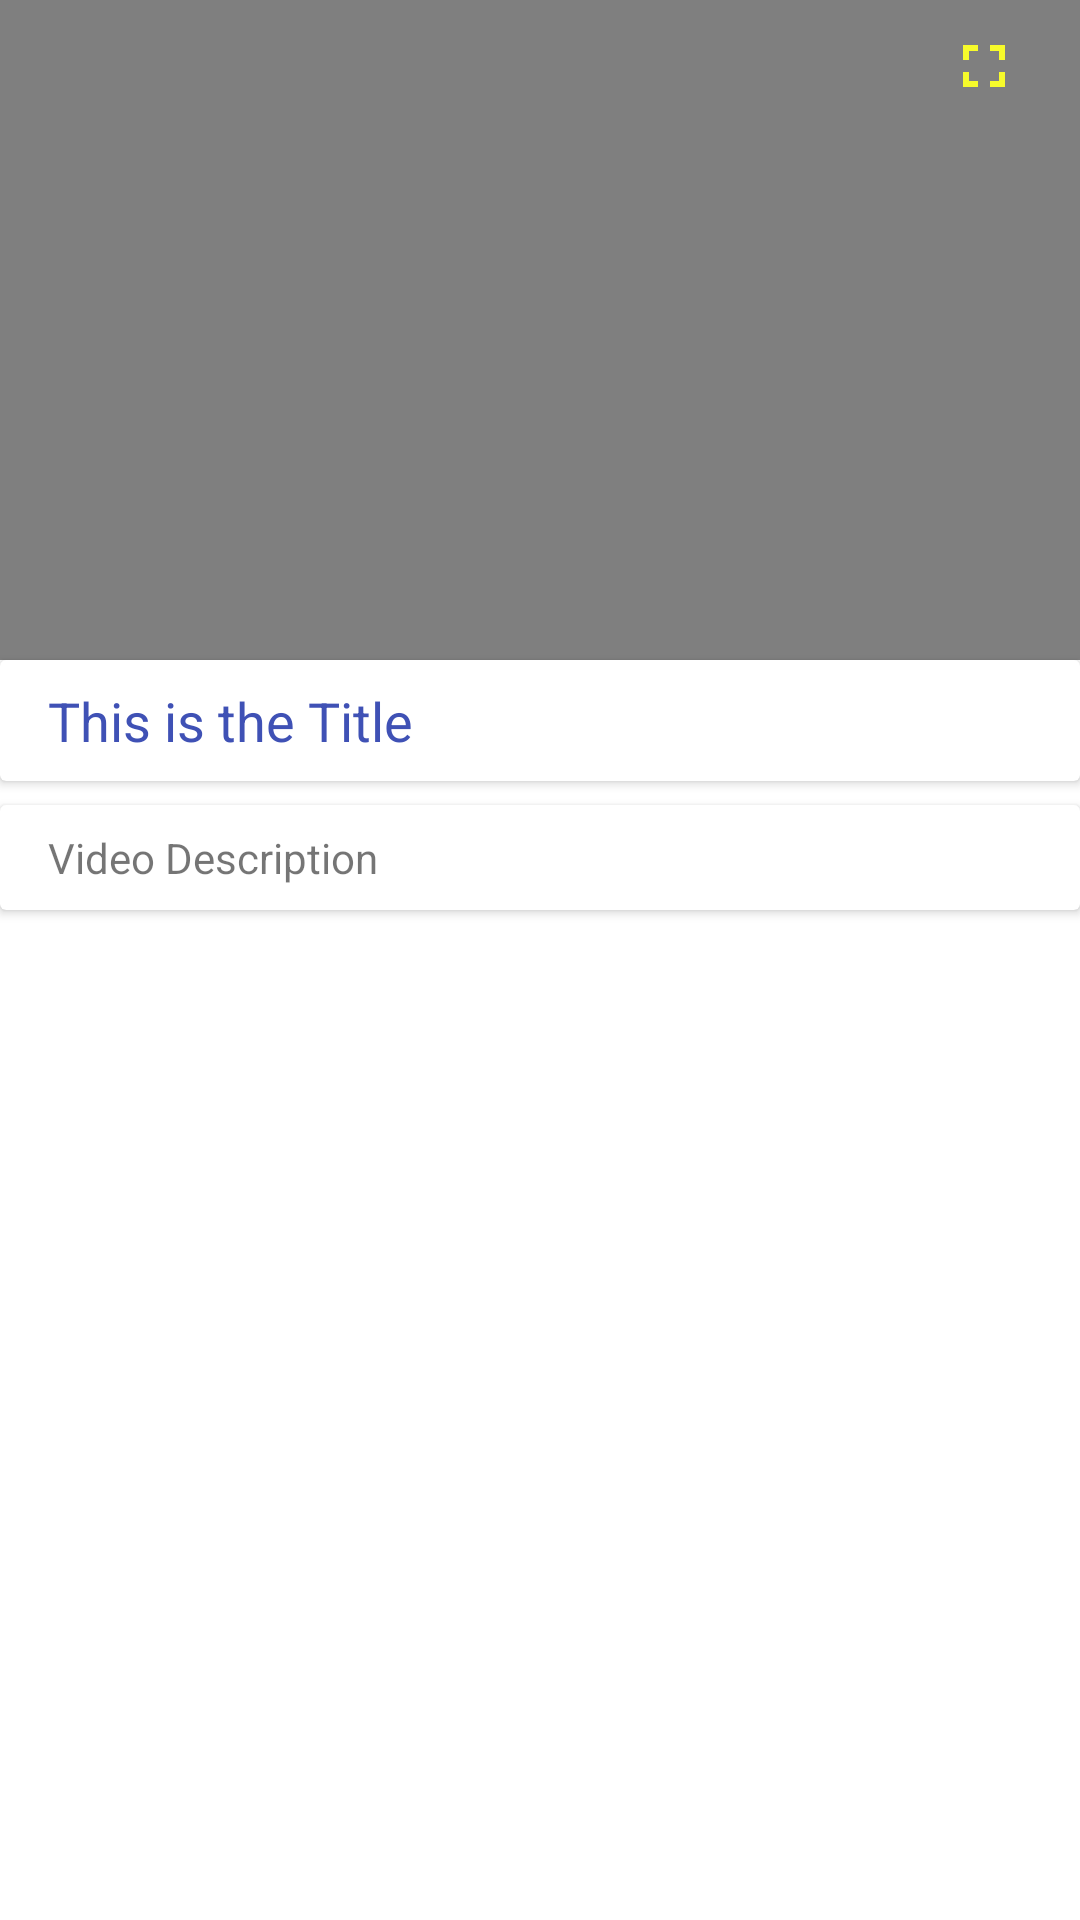

Screen size 1080w x 1920h. Icon name, then its center in pixels as (x=x, y=y):
fullscreen: (x=984, y=66)
